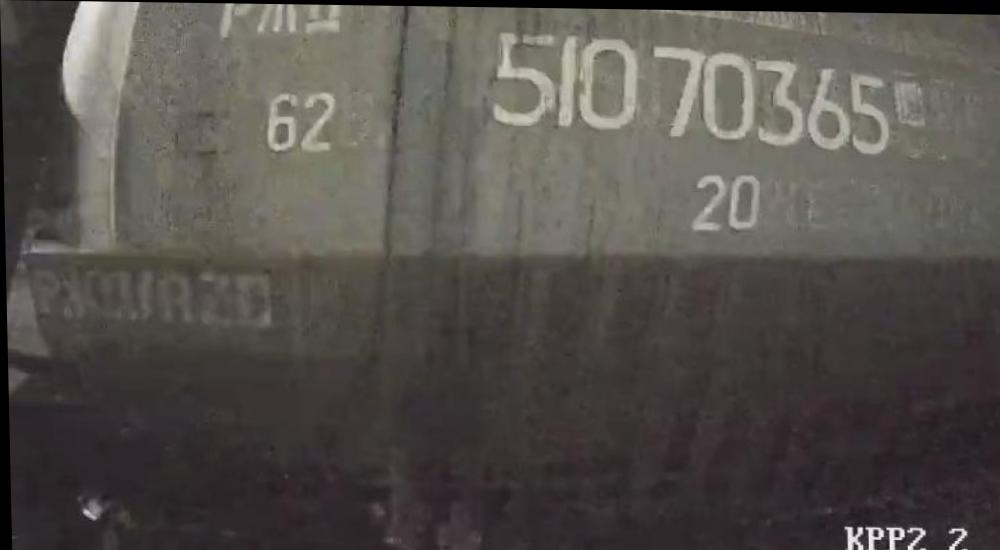Wagon-number: (481, 21, 894, 165)
